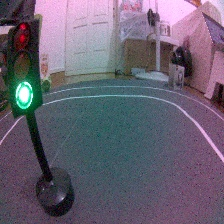green: (3, 12, 79, 219)
